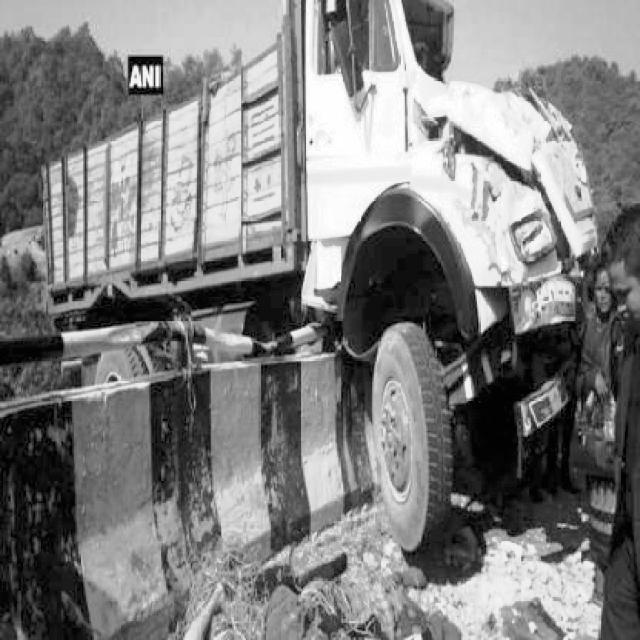HCV: (56, 108, 554, 450)
